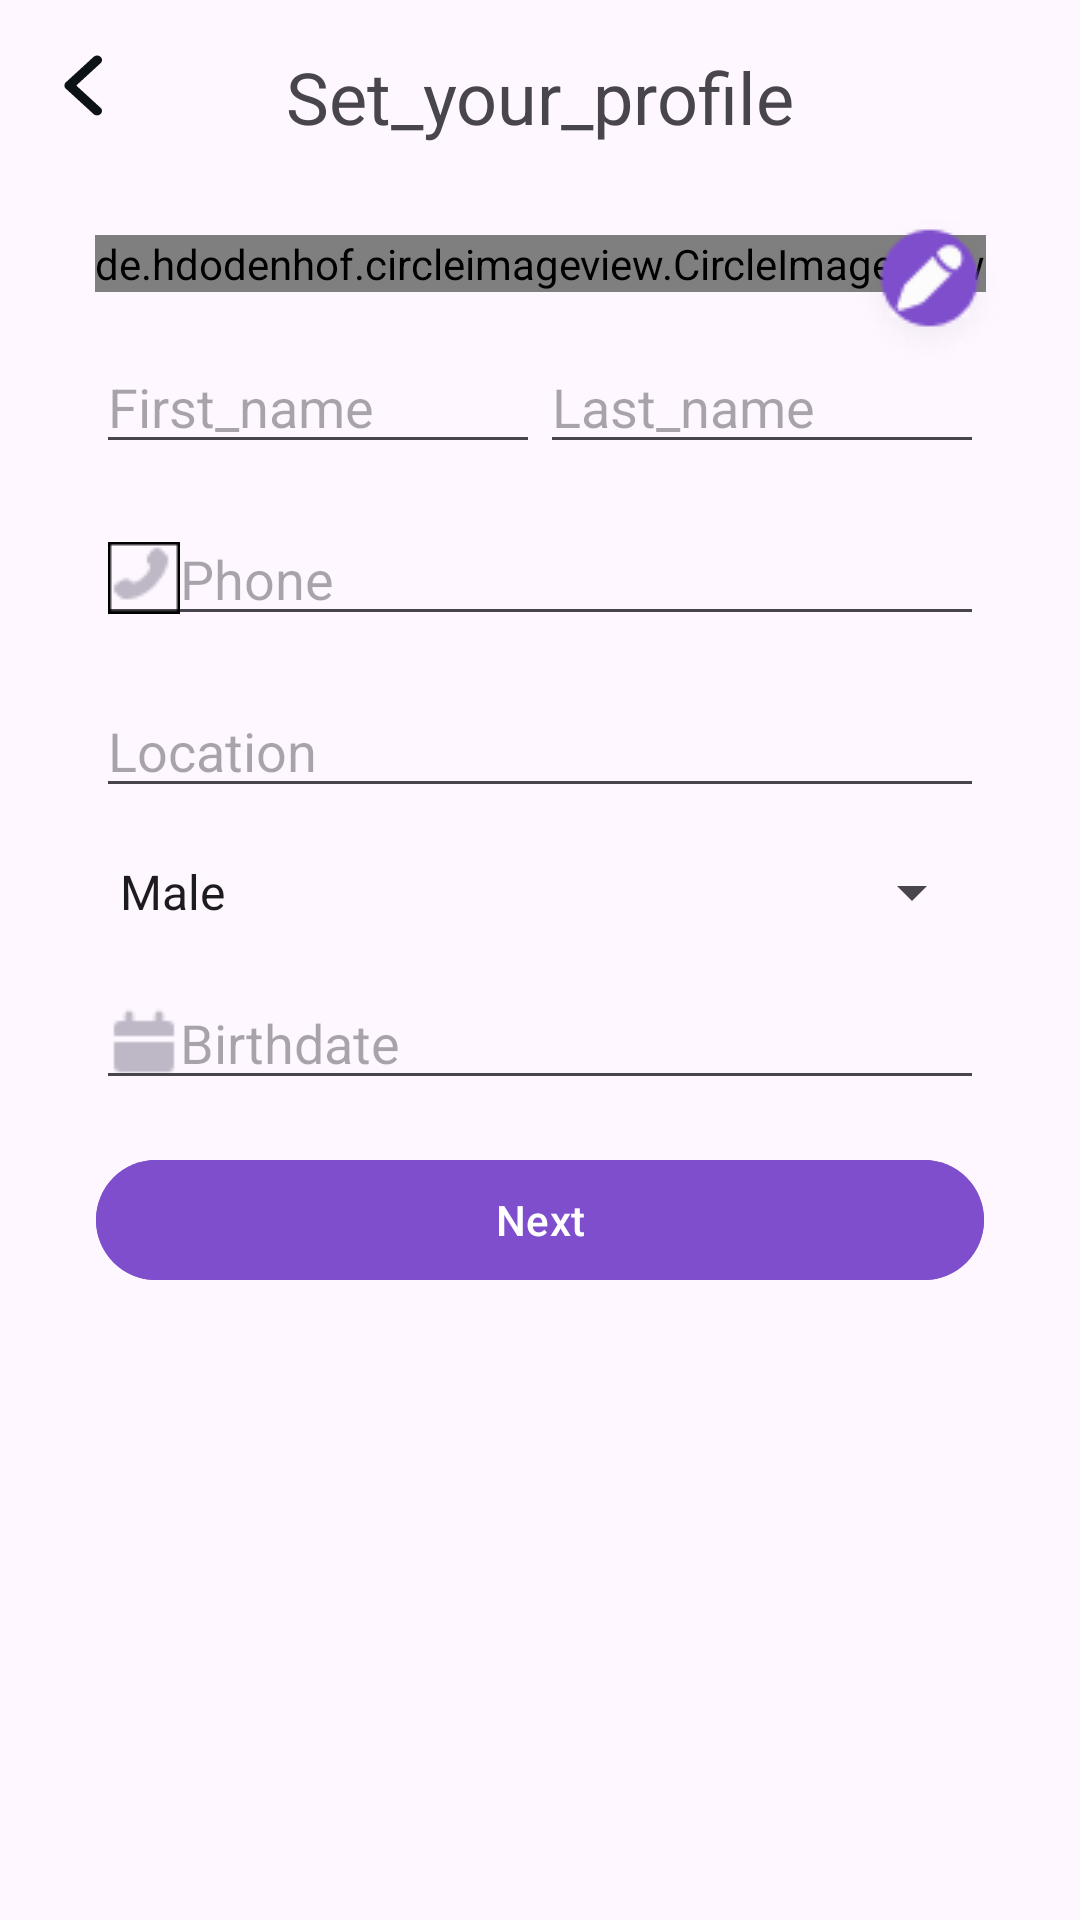

Icon click points for this 1080 x 1920 phone screenshot, format [x,y]:
back: [83,85]
